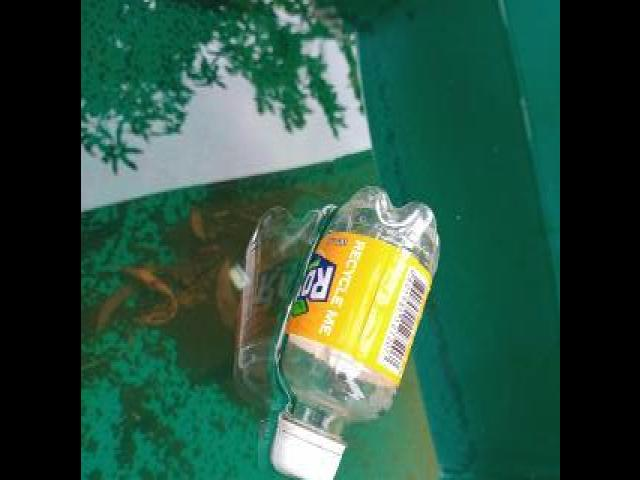Bottle: (259, 180, 445, 480)
